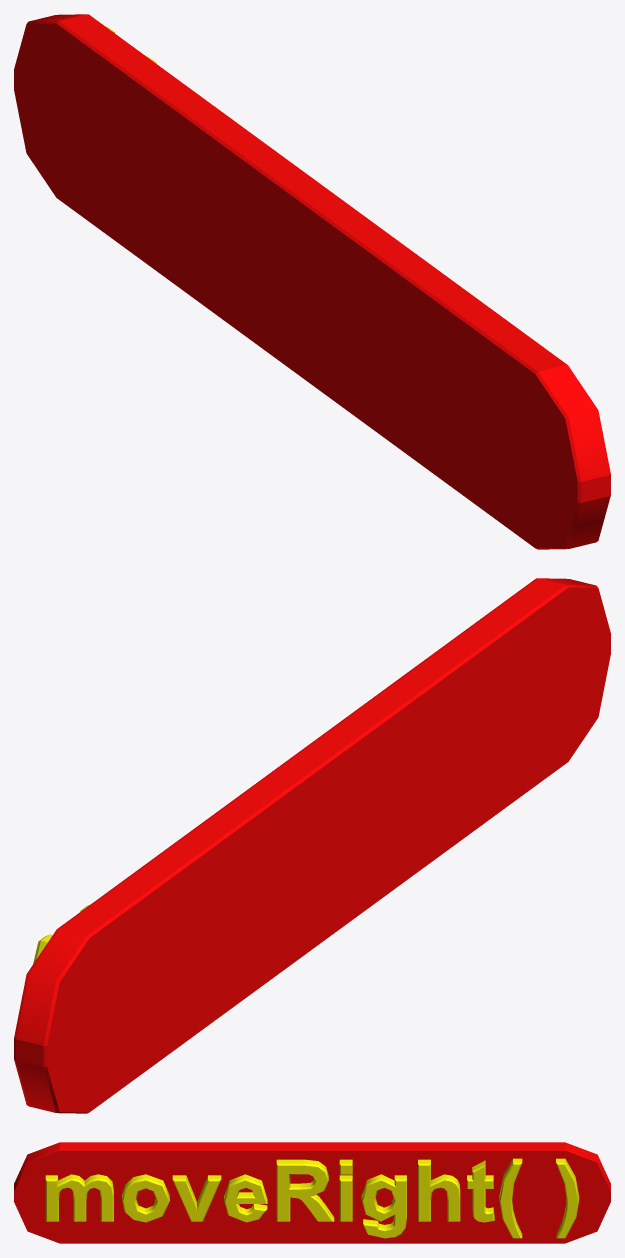
Rendered from moveRight.FBX.
The picture shows the model from 3 angles, top to bottom: view 1: azimuth 30°, elevation 25°; view 2: azimuth 150°, elevation 25°; view 3: azimuth 270°, elevation 25°; orthographic projection. The views are drawn at different scales.
Parts seen in each view (by area): view 1: moveRight; view 2: moveRight; view 3: moveRight.
Part boxes in pixels (box(x1,y1,x2,y2)): moveRight: box(14, 14, 610, 549); moveRight: box(14, 578, 610, 1113); moveRight: box(14, 1142, 610, 1243).
Size of the model in its own units: 116 by 381 by 2194.
